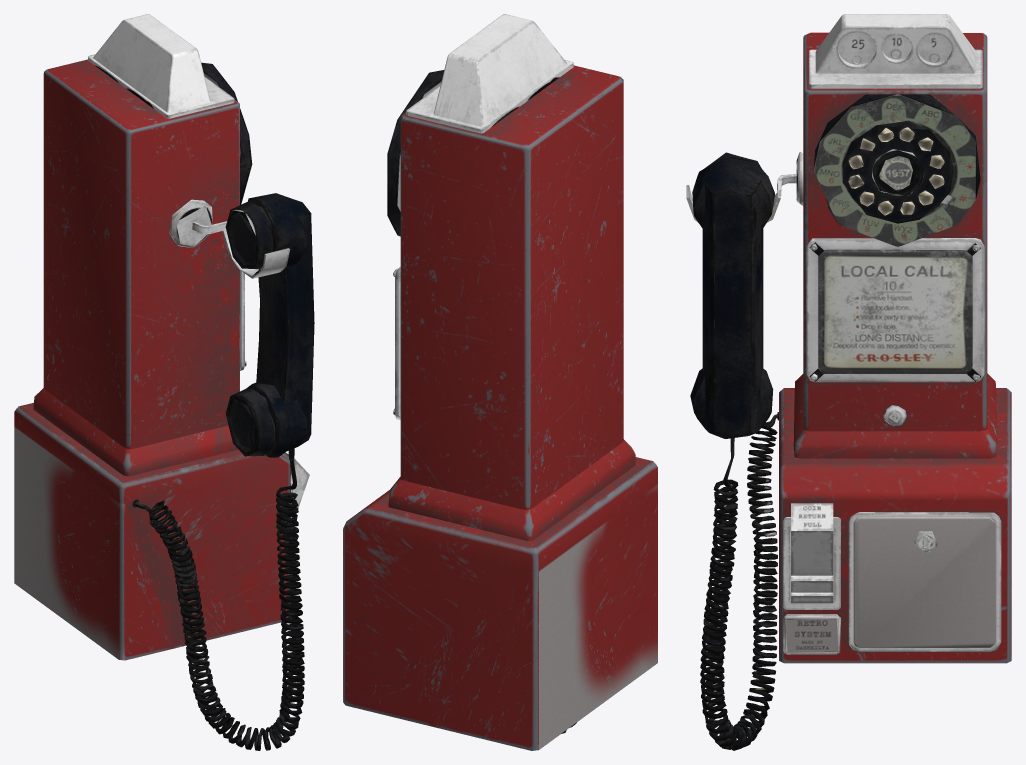
The model's file is packed_payphone.glb.
The picture shows the model from 3 angles, left to right: view 1: azimuth 30°, elevation 25°; view 2: azimuth 150°, elevation 25°; view 3: azimuth 270°, elevation 25°; orthographic projection. The views are drawn at different scales.
Size of the model in its own units: 152 by 499 by 206.
1 material, 1 textured.
